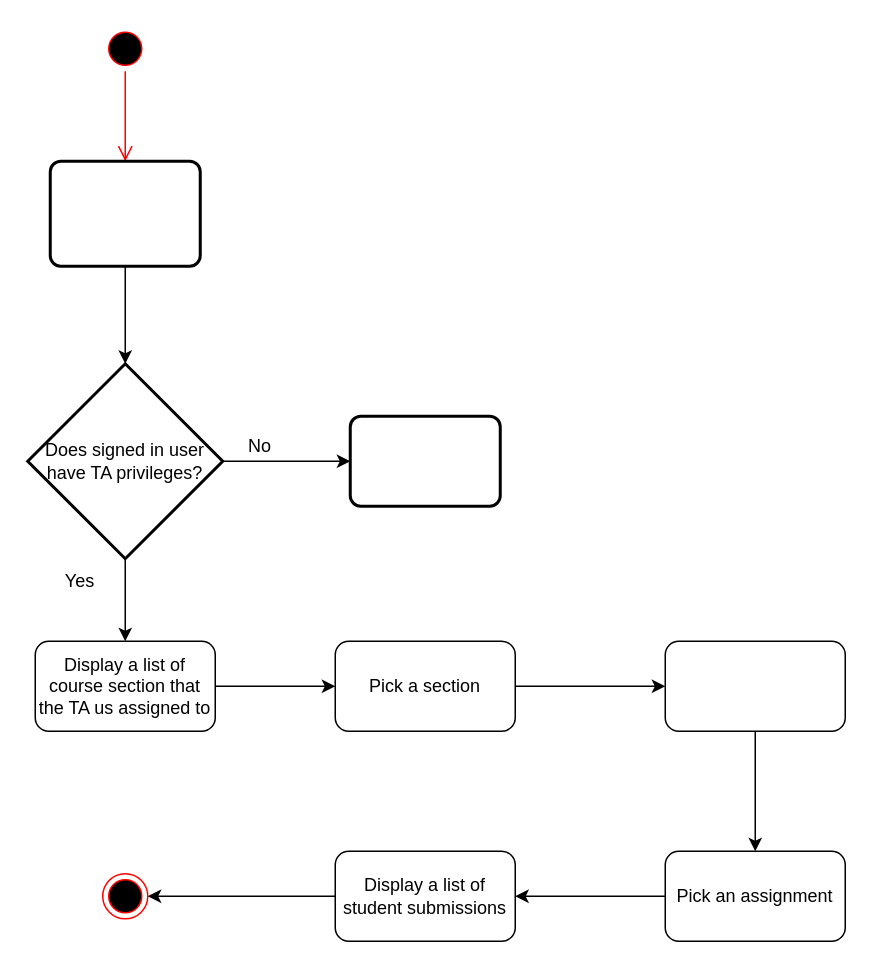
This 872x968 diagram has some shape labels left out. The shapes that lost their labels are listed below. From the top down, each one's centre as x and y in pixels, then its label:
At (124,213): "Sign in".
At (424,460): "Not able to view submitted assignments".
At (754,685): "Display a list of assignments for the section".
